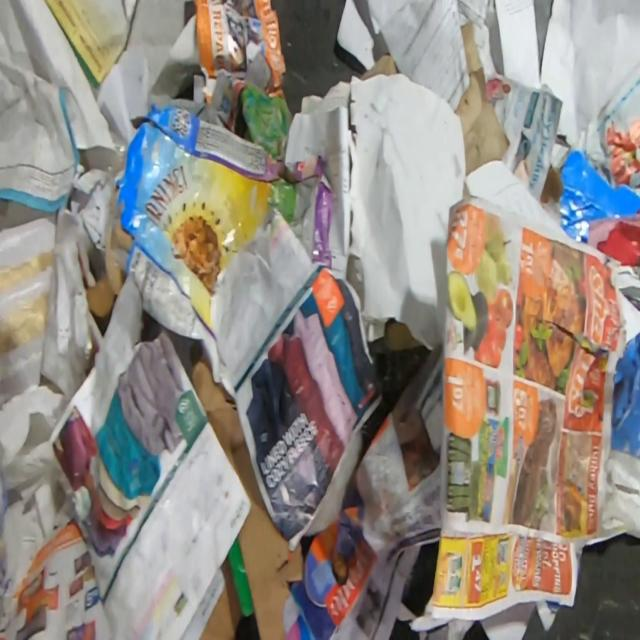cardboard: (81, 100, 334, 398), (185, 351, 304, 640), (558, 150, 640, 243), (176, 555, 260, 640), (539, 162, 562, 209)
rigid_plastic: (74, 129, 129, 181)
